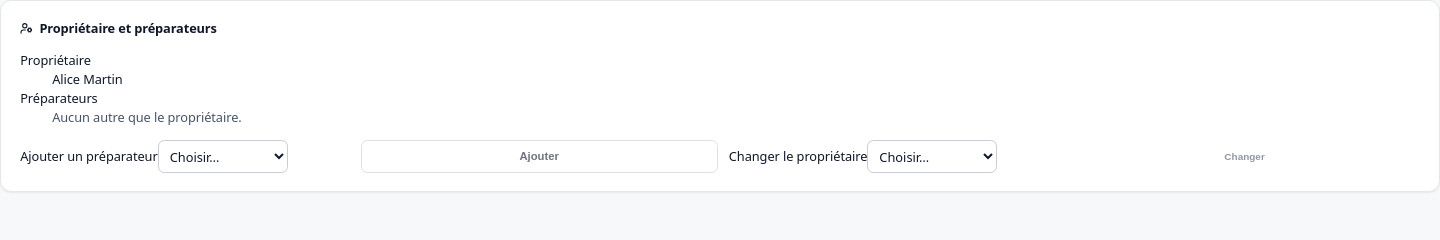
Scenario: CampaignOwnership › says why when the server refuses
The width and height of the screenshot is (1440, 240).
Select "Sophie Bernard" in the dropdown labelled "Ajouter un préparateur" at x=223, y=157, box [158,140,288,173]
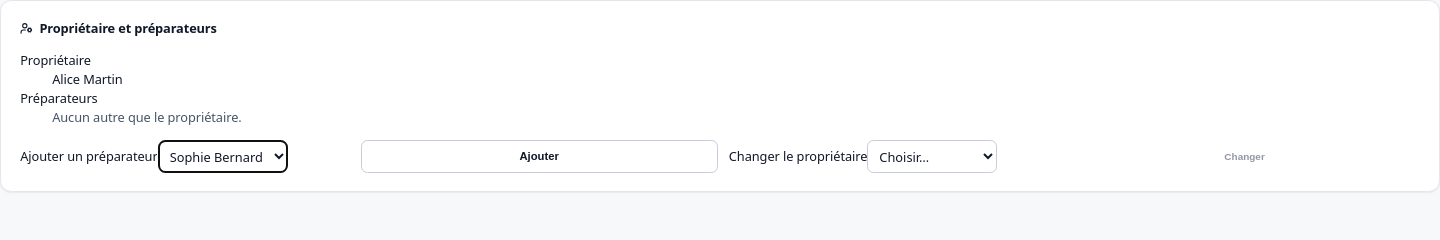
Click the button "Ajouter" at x=539, y=157, box [361,140,718,173]
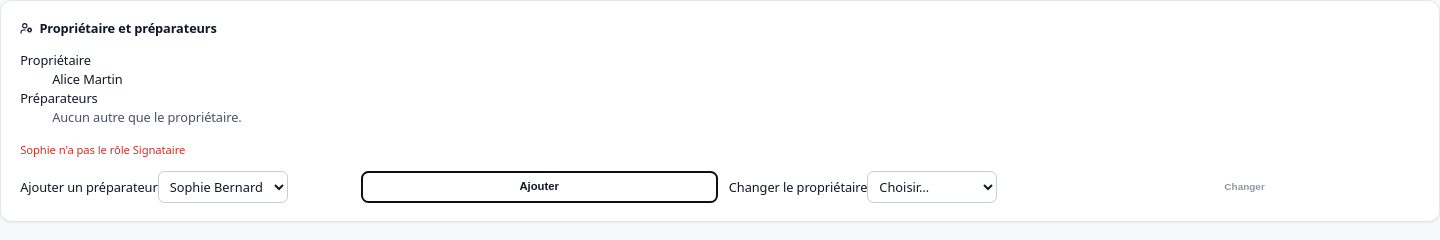
Check: the message shows "n'a pas le rôle Signataire", box [20,142,185,157]
